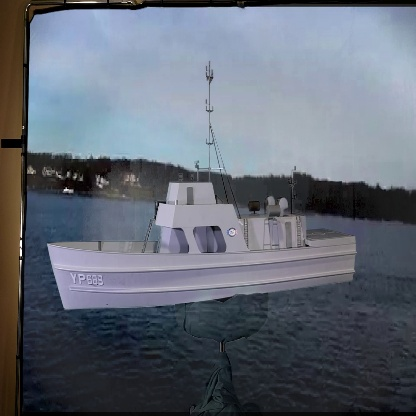YP689: (46, 63, 358, 312)
